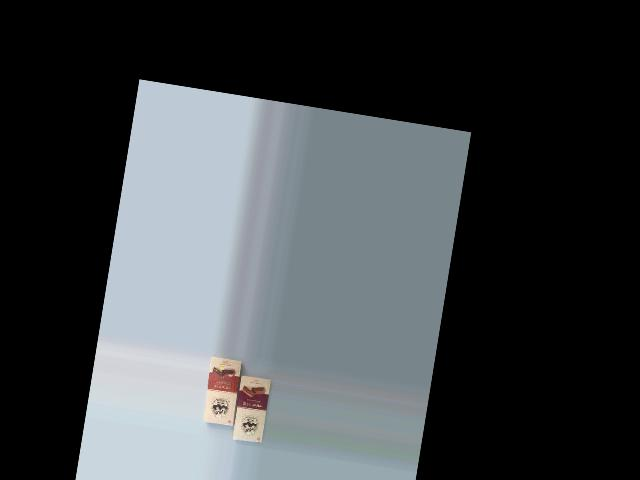chocolate: (199, 354, 249, 430)
